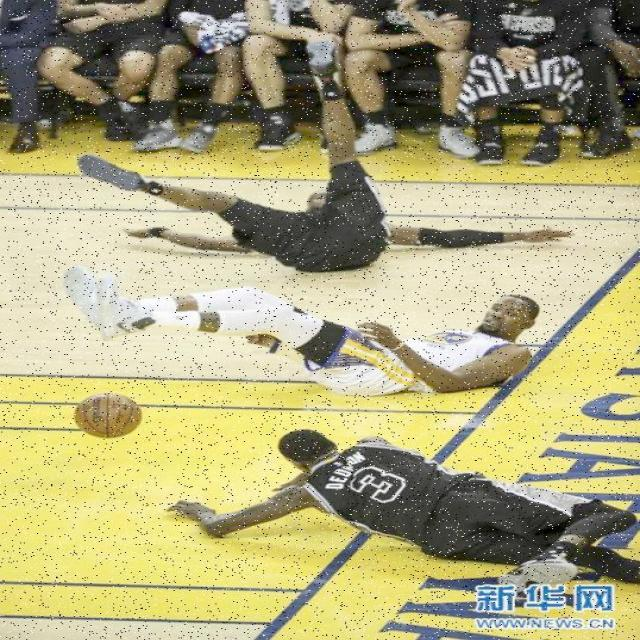fall: (79, 113, 566, 266), (195, 428, 634, 582), (56, 275, 556, 400)
